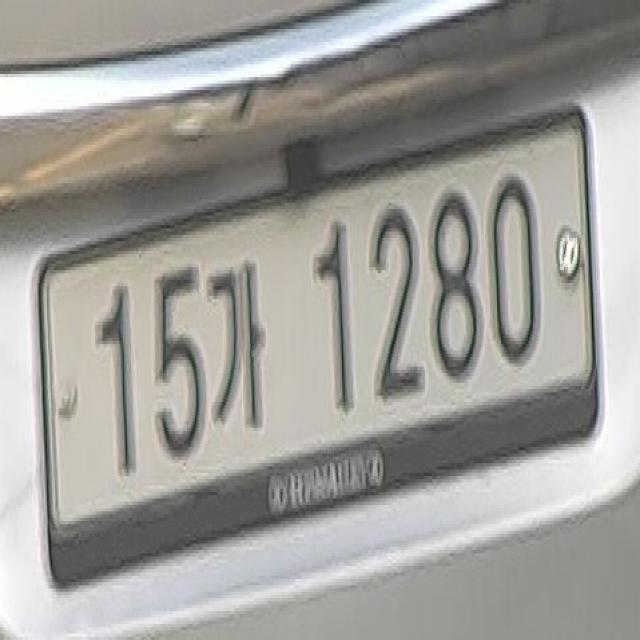0: (485, 154, 544, 383)
1: (307, 183, 366, 444), (91, 251, 144, 498)
2: (370, 177, 426, 428)
5: (147, 235, 210, 473)
8: (428, 174, 485, 392)
ga: (207, 238, 274, 450)
license_plate: (32, 80, 605, 604)
